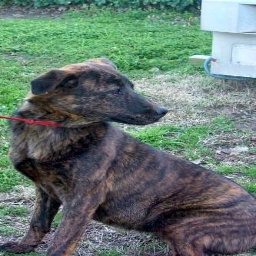dog: (9, 58, 256, 250)
